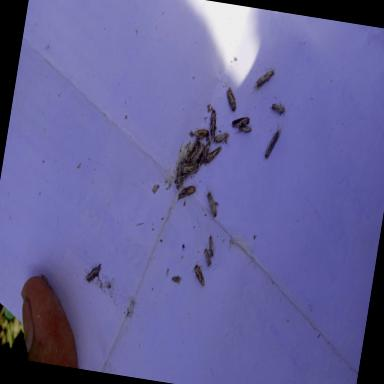pbw: (250, 64, 274, 96), (199, 184, 221, 217), (264, 120, 282, 160), (206, 107, 219, 146), (176, 184, 198, 206), (180, 157, 202, 176), (223, 86, 239, 112), (82, 261, 100, 284), (189, 263, 207, 286), (198, 140, 210, 170), (186, 138, 201, 162), (204, 144, 221, 165), (212, 130, 230, 147), (267, 100, 286, 116), (174, 160, 184, 190), (230, 114, 250, 129), (192, 126, 208, 142), (201, 247, 213, 266), (173, 170, 189, 184), (206, 235, 216, 257), (234, 124, 252, 136)
